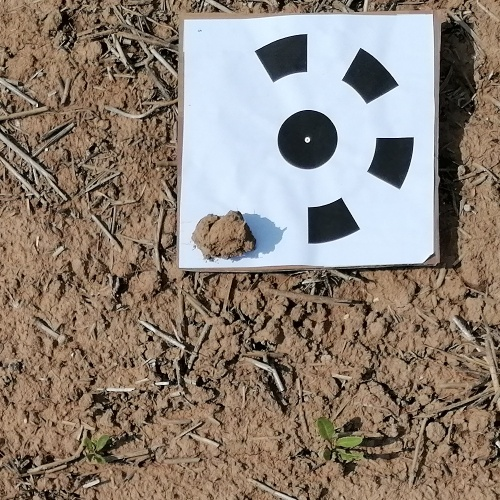beet: (318, 419, 366, 464), (83, 437, 109, 467)
